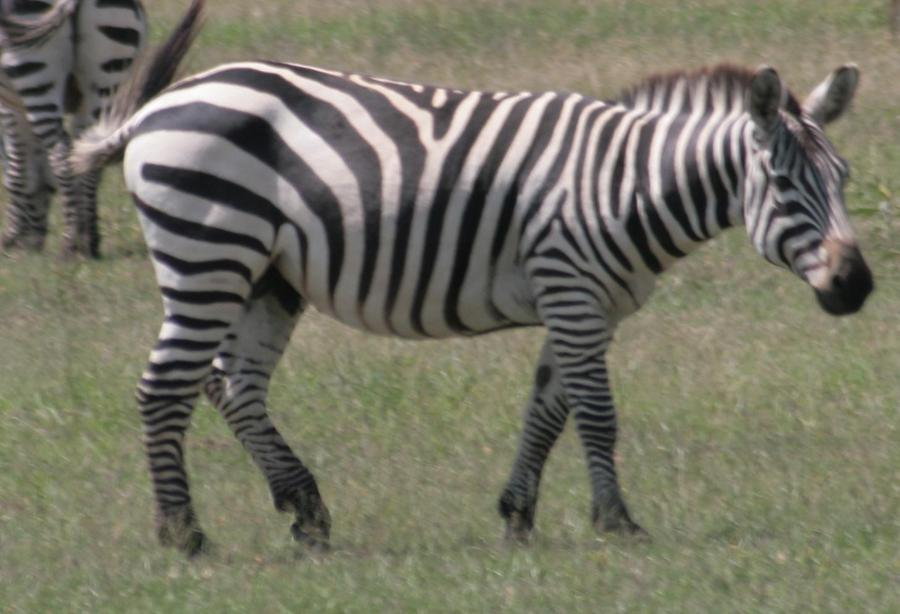zebra_plains: (106, 35, 686, 341)
